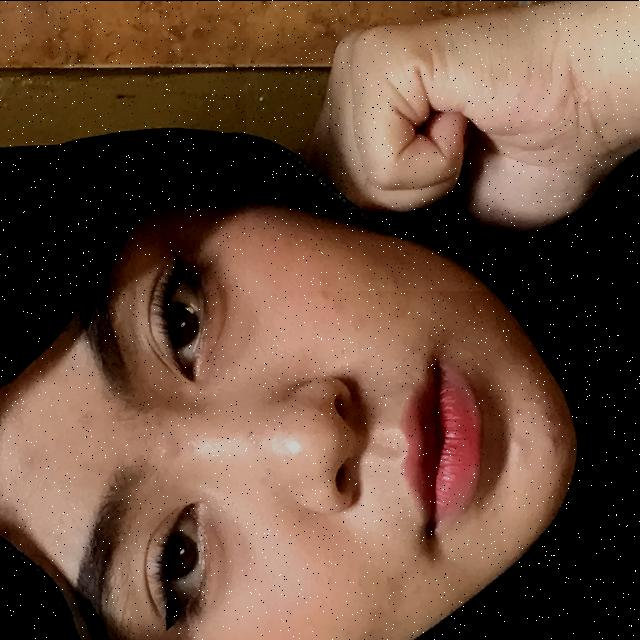ibu: (246, 0, 640, 290)
